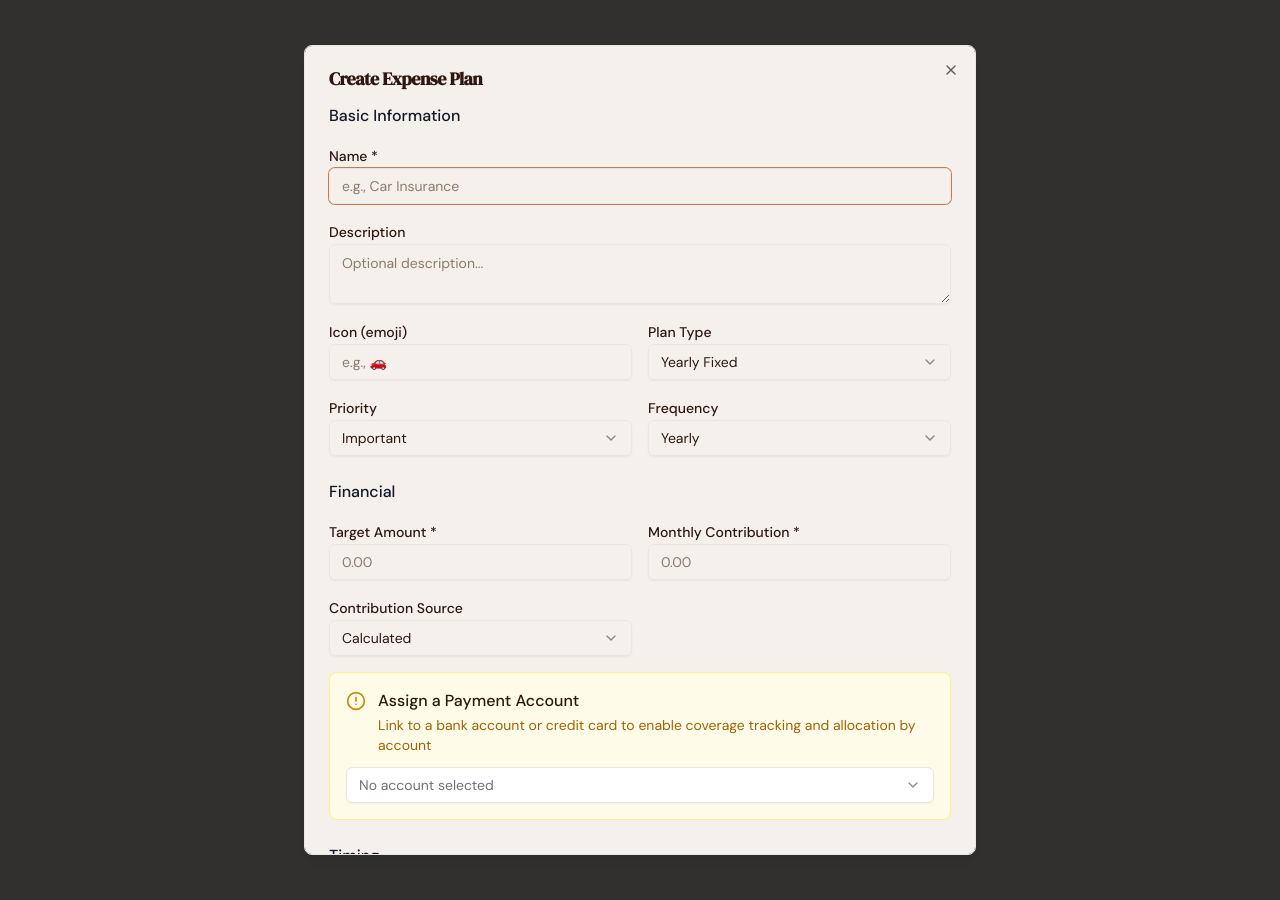
Test: ExpensePlanFormDialog › form validation › should show error when target amount is empty
// Fill name but leave target amount empty
Type "Test Plan" into the field labelled "Name *" at {"x": 640, "y": 186}, box [329, 168, 951, 204]
(page scrolled)
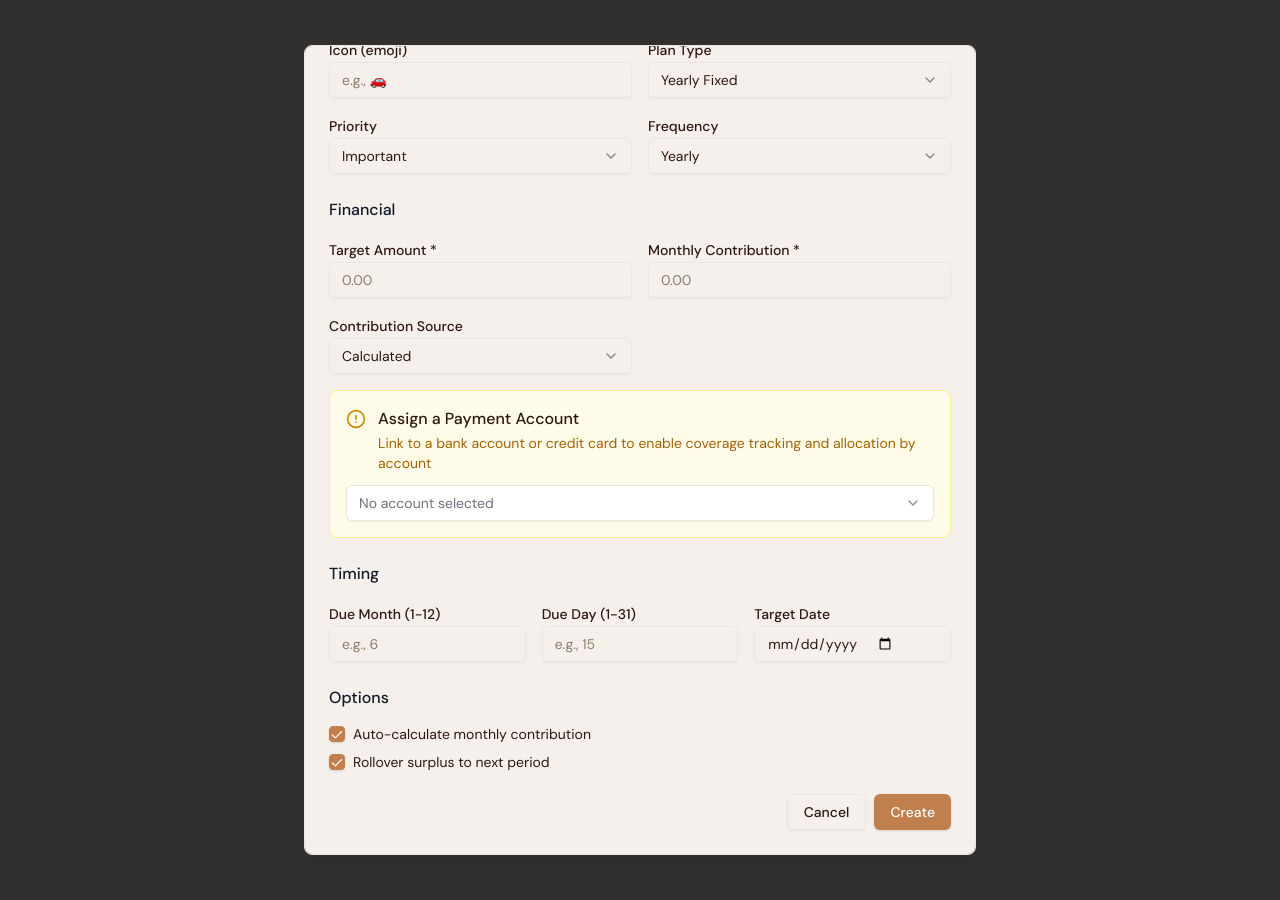
Expected: the number field labelled "Target Amount *" is not empty, [329, 262, 632, 298]
Click the button "Create" at {"x": 913, "y": 812}, box [874, 794, 951, 830]
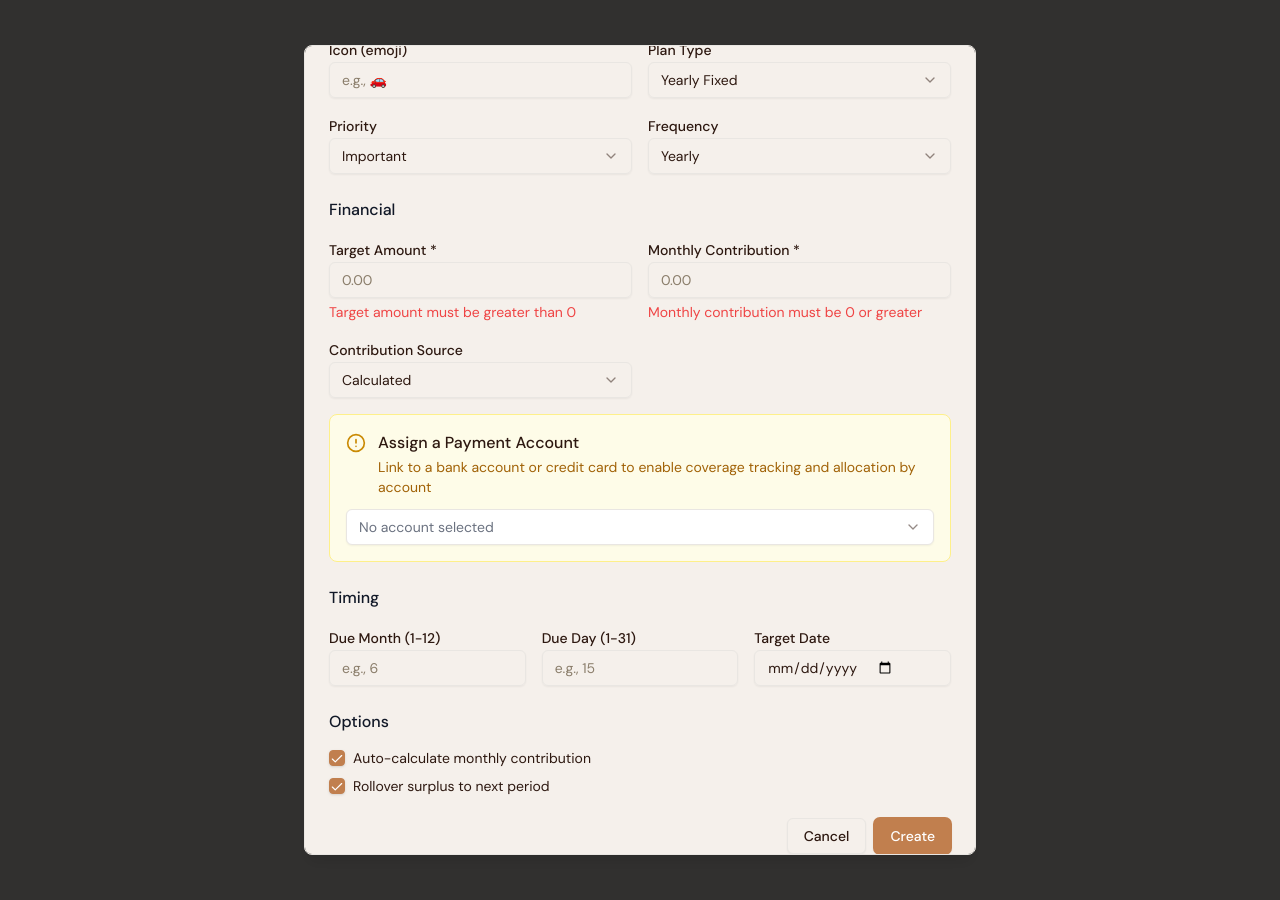
Now the text "Target amount must be greater than 0" is shown, box [329, 303, 576, 321]
